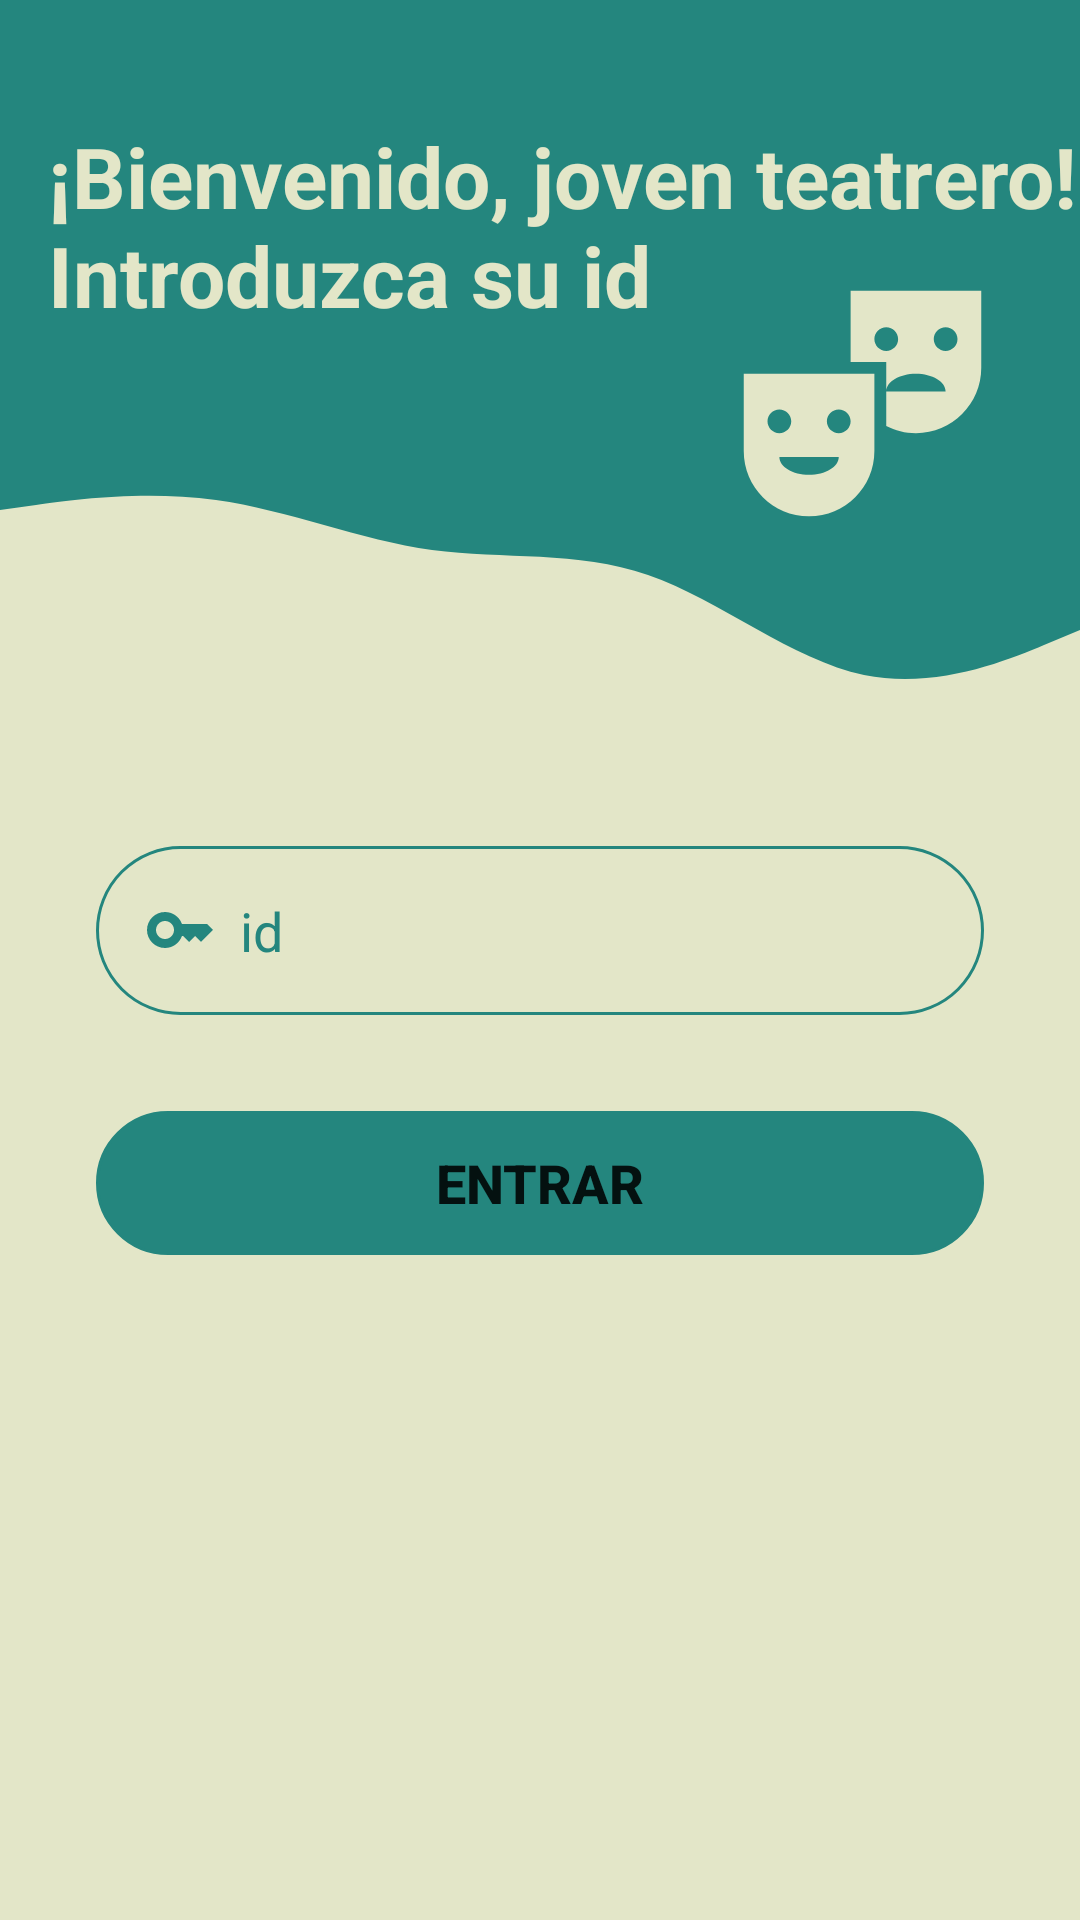

Locate icon controls on the screen. Image size 1080 × 1920, boxes as detection(x1, y1, x2, y2).
theater: detection(743, 290, 982, 517)
